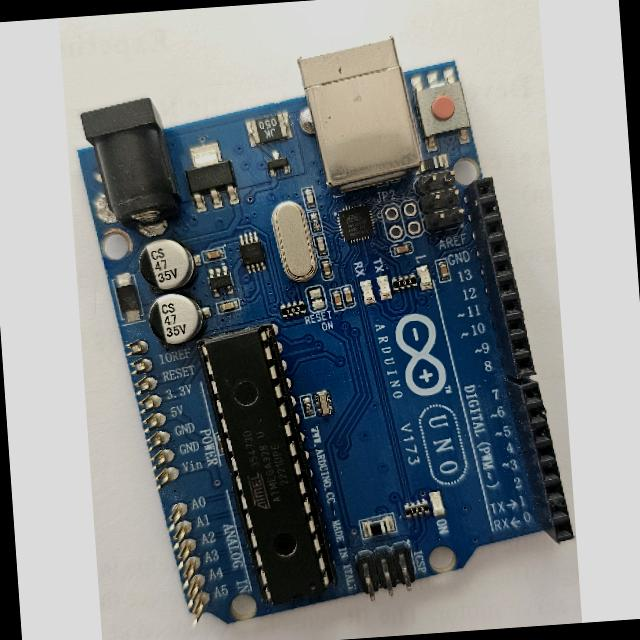missing_analog_pins: (118, 334, 218, 630)
